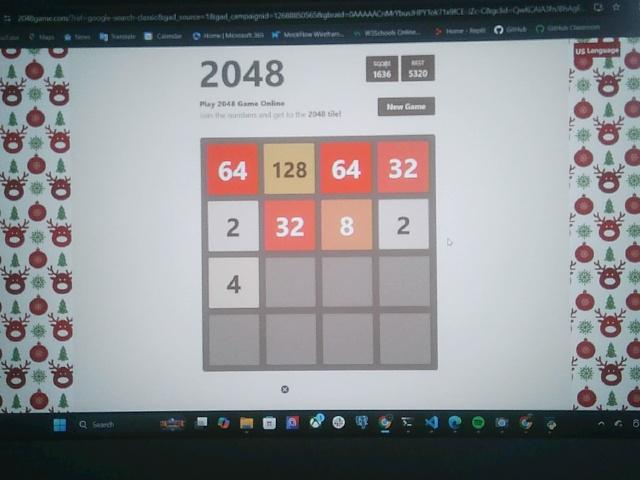best_score_box: (402, 55, 436, 83)
button: (378, 96, 435, 117)
score_box: (365, 56, 398, 83)
